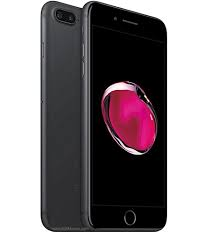iphone: (80, 1, 168, 233)
iphone6: (80, 1, 168, 233)
